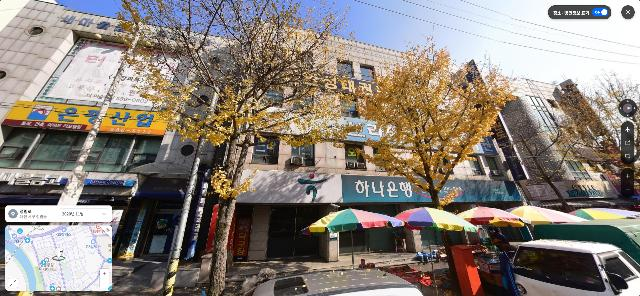ginkgo: (102, 0, 361, 296), (342, 31, 522, 292)
